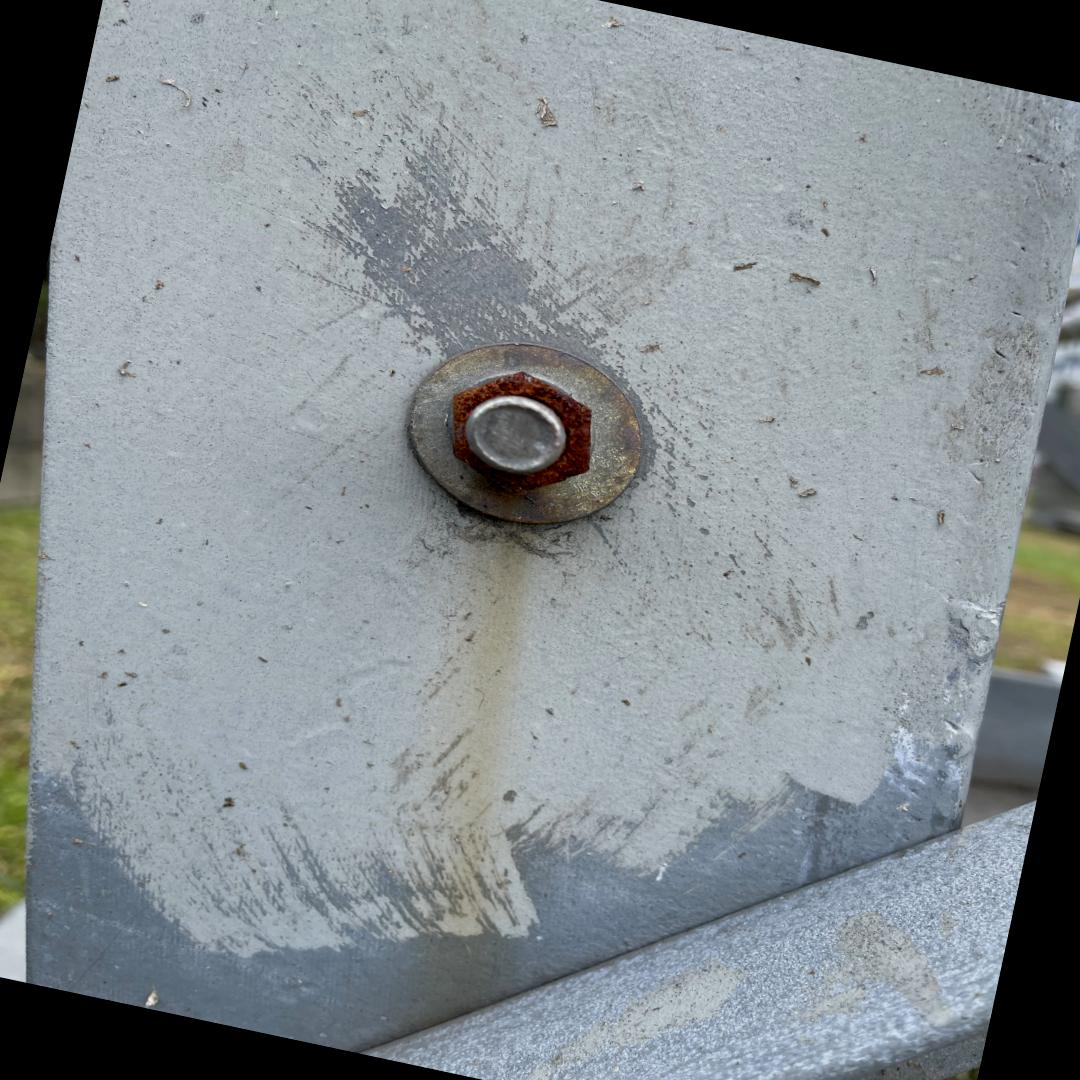Metal: (19, 0, 1080, 1080)
Metal corroido: (453, 371, 591, 494)
Tornillo sin corrosion: (464, 396, 565, 471)
